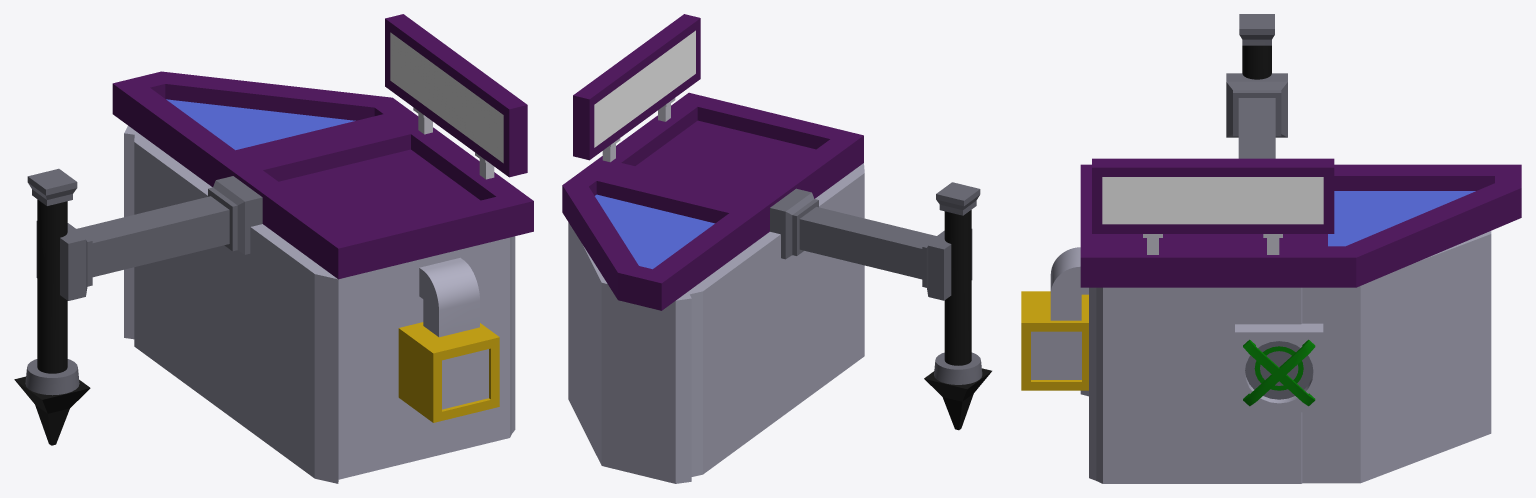
The model's file is Miner.fbx.
3 renders of one model, left to right at view 1: azimuth 30°, elevation 25°; view 2: azimuth 150°, elevation 25°; view 3: azimuth 270°, elevation 25°, orthographic. The views are drawn at different scales.
Parts seen in each view (by area): view 1: wall_straight_10, roof_flat_7, wall_straight_11, roof_flat_corner_large_8, detail_signRectangle_17, detail_airSmall_16, structure_column_13, column_15, wall_cornerDiagonal_9, roof_pointSteps_14, wall_straight_12; view 2: wall_straight_10, wall_cornerDiagonal_9, roof_flat_7, roof_flat_corner_large_8, detail_signRectangle_17, structure_column_13, column_15, roof_pointSteps_14; view 3: wall_cornerDiagonal_9, wall_straight_12, roof_flat_corner_large_8, detail_signRectangle_17, roof_flat_7, detail_airSmall_16, detail_airHuge_20, structure_column_13, column_15, wall_straight_11.
Part boxes in pixels (x1,y1,x2,y2): wall_straight_10: [134, 131, 338, 483]; roof_flat_7: [225, 119, 533, 279]; wall_straight_11: [316, 237, 511, 479]; roof_flat_corner_large_8: [112, 71, 418, 187]; detail_signRectangle_17: [385, 14, 527, 179]; detail_airSmall_16: [398, 257, 499, 422]; structure_column_13: [36, 176, 262, 300]; column_15: [25, 168, 79, 395]; wall_cornerDiagonal_9: [124, 125, 141, 339]; roof_pointSteps_14: [14, 376, 90, 445]; wall_straight_12: [512, 236, 515, 433]; wall_straight_10: [682, 163, 864, 476]; wall_cornerDiagonal_9: [568, 222, 691, 483]; roof_flat_7: [588, 92, 863, 236]; roof_flat_corner_large_8: [562, 166, 762, 310]; detail_signRectangle_17: [573, 14, 700, 162]; structure_column_13: [770, 188, 972, 300]; column_15: [934, 182, 982, 384]; roof_pointSteps_14: [924, 368, 991, 430]; wall_cornerDiagonal_9: [1302, 231, 1491, 483]; wall_straight_12: [1096, 287, 1302, 483]; roof_flat_corner_large_8: [1301, 164, 1521, 287]; detail_signRectangle_17: [1092, 158, 1334, 254]; roof_flat_7: [1080, 164, 1301, 287]; detail_airSmall_16: [1021, 247, 1088, 390]; detail_airHuge_20: [1235, 323, 1323, 412]; structure_column_13: [1226, 73, 1287, 158]; column_15: [1239, 14, 1274, 79]; wall_straight_11: [1089, 287, 1096, 480].
Bounding box in the file's own units: 22.04 × 16 × 22.7.
